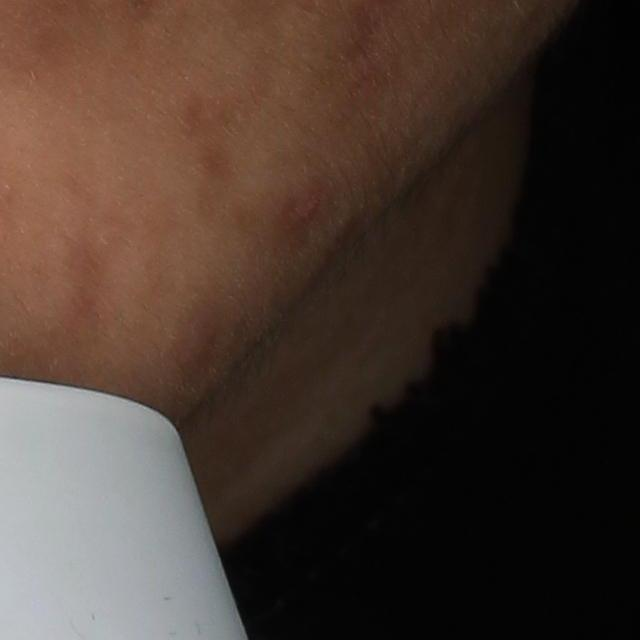papule: (298, 191, 325, 222)
